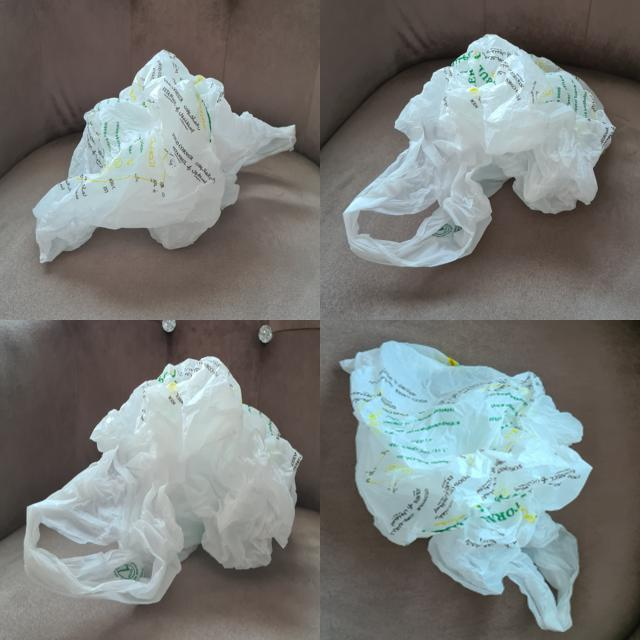Single-layer Plastic: (341, 341, 591, 631), (24, 356, 301, 604), (344, 35, 615, 266), (34, 50, 295, 262)
